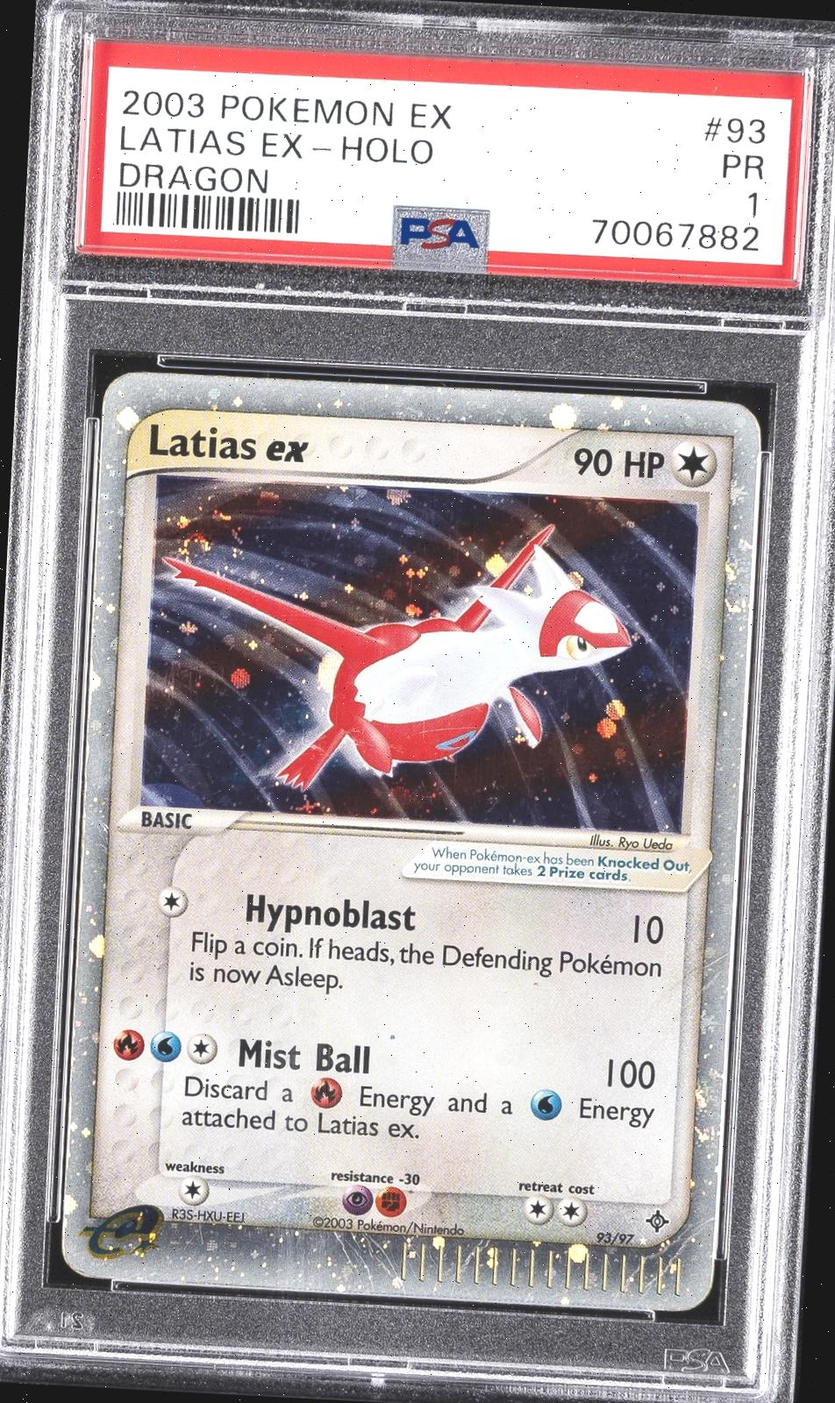card-2UtV: (61, 370, 762, 1312)
